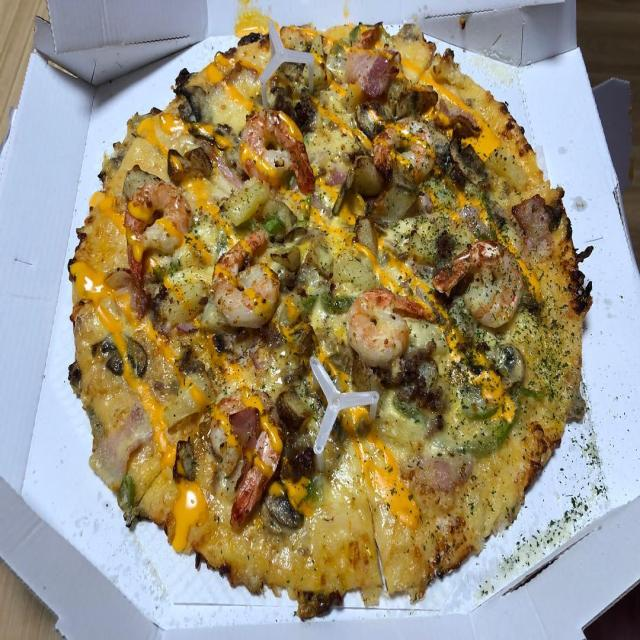mushrooms: (100, 331, 149, 379), (264, 477, 305, 530), (449, 132, 488, 185), (176, 82, 213, 126), (491, 344, 525, 389), (354, 102, 385, 138)
pizza: (63, 19, 588, 608)
